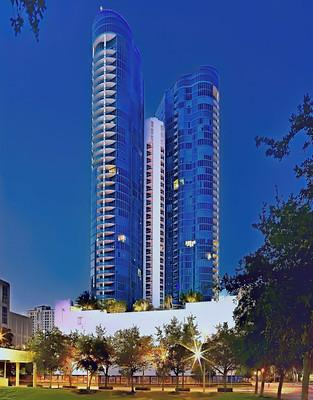building: (90, 4, 144, 312), (157, 64, 222, 310), (144, 114, 165, 314)
